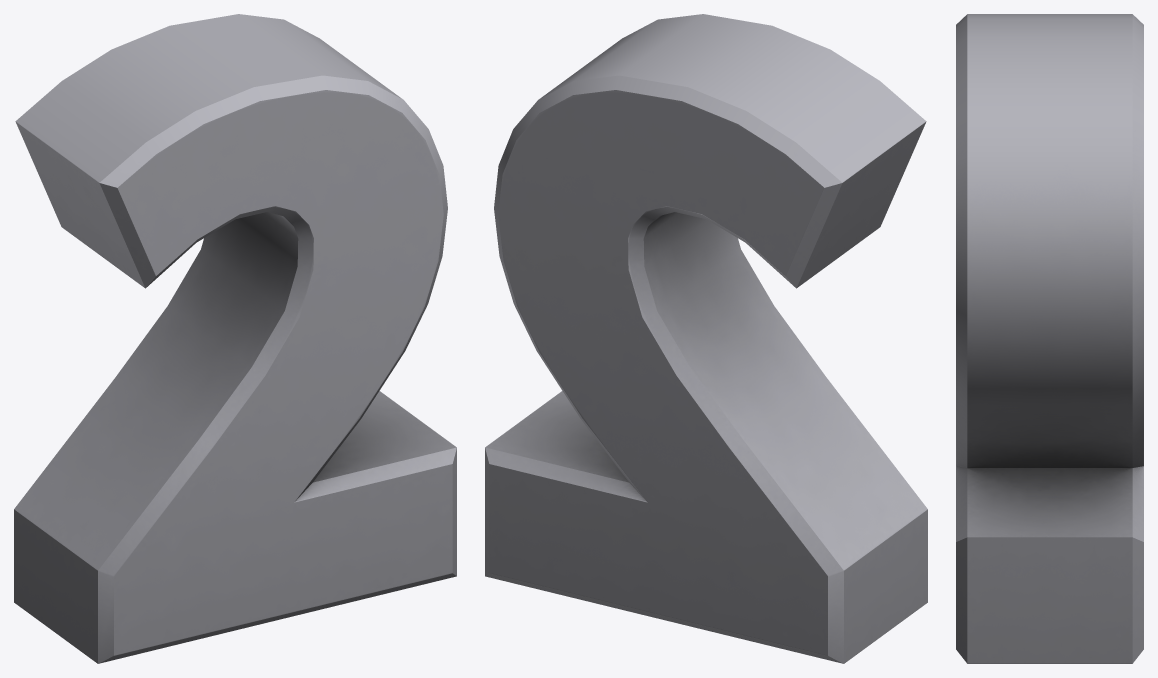
File: 2_static.fbx
3 renders of one model, left to right at view 1: azimuth 30°, elevation 25°; view 2: azimuth 150°, elevation 25°; view 3: azimuth 270°, elevation 25°, orthographic.
Visible parts, largest first — view 1: 2_static; view 2: 2_static; view 3: 2_static.
Boxes of the visible parts, x1,y1,x2,y2 form: 2_static: [14, 14, 456, 663]; 2_static: [485, 14, 927, 663]; 2_static: [956, 14, 1143, 663].
Bounding box in the file's own units: 71.55 × 103 × 33.
